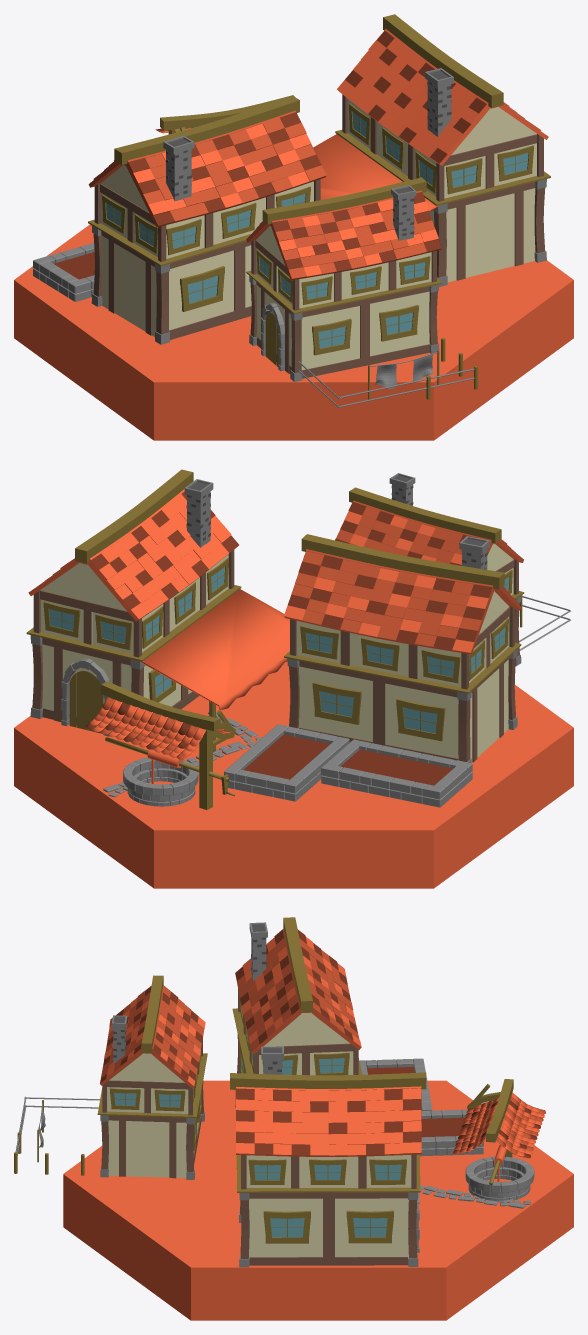
The model's file is Tuile_Village_Test 1.fbx.
3 renders of one model, top to bottom at view 1: azimuth 30°, elevation 25°; view 2: azimuth 150°, elevation 25°; view 3: azimuth 270°, elevation 25°, orthographic. The views are drawn at different scales.
Visible parts, largest first — view 1: Circle, Cube.077, fenetre étage.001, porte, Cylinder.001; view 2: Circle, Cube.077, fenetre étage.001, Cylinder.001, porte, CHEMIN; view 3: Circle, fenetre étage.001, porte, Cube.077, Cylinder.001, CHEMIN.
Boxes of the visible parts, left/top/right/bottom form: Circle: left=14, top=224, right=573, bottom=440; Cube.077: left=33, top=95, right=326, bottom=344; fenetre étage.001: left=313, top=14, right=550, bottom=286; porte: left=246, top=177, right=477, bottom=408; Cylinder.001: left=155, top=95, right=294, bottom=134; Circle: left=14, top=661, right=573, bottom=888; Cube.077: left=224, top=534, right=521, bottom=807; fenetre étage.001: left=26, top=469, right=289, bottom=752; Cylinder.001: left=85, top=681, right=235, bottom=809; porte: left=335, top=473, right=570, bottom=666; CHEMIN: left=103, top=711, right=262, bottom=797; Circle: left=63, top=1080, right=573, bottom=1320; fenetre étage.001: left=230, top=1046, right=426, bottom=1267; porte: left=14, top=975, right=207, bottom=1179; Cube.077: left=232, top=917, right=483, bottom=1156; Cylinder.001: left=453, top=1079, right=545, bottom=1201; CHEMIN: left=420, top=1185, right=530, bottom=1208.
Bounding box in the file's own units: 108 × 62.48 × 136.
